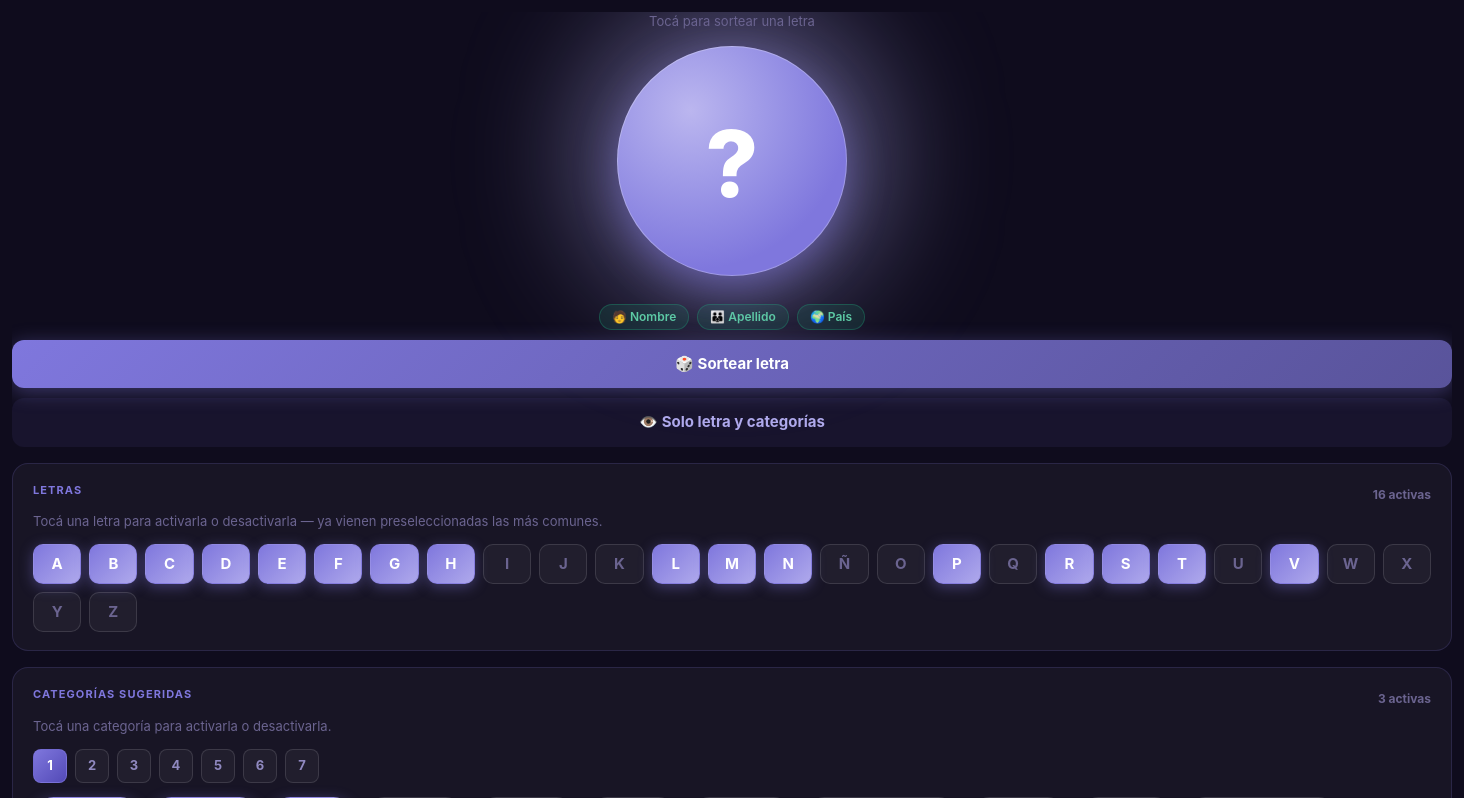
Test: Tutifrutti LocalGame › drawing a letter shows it alongside the active categories
Click the button "🎲 Sortear letra": point(732, 364) [12,340,1452,388]
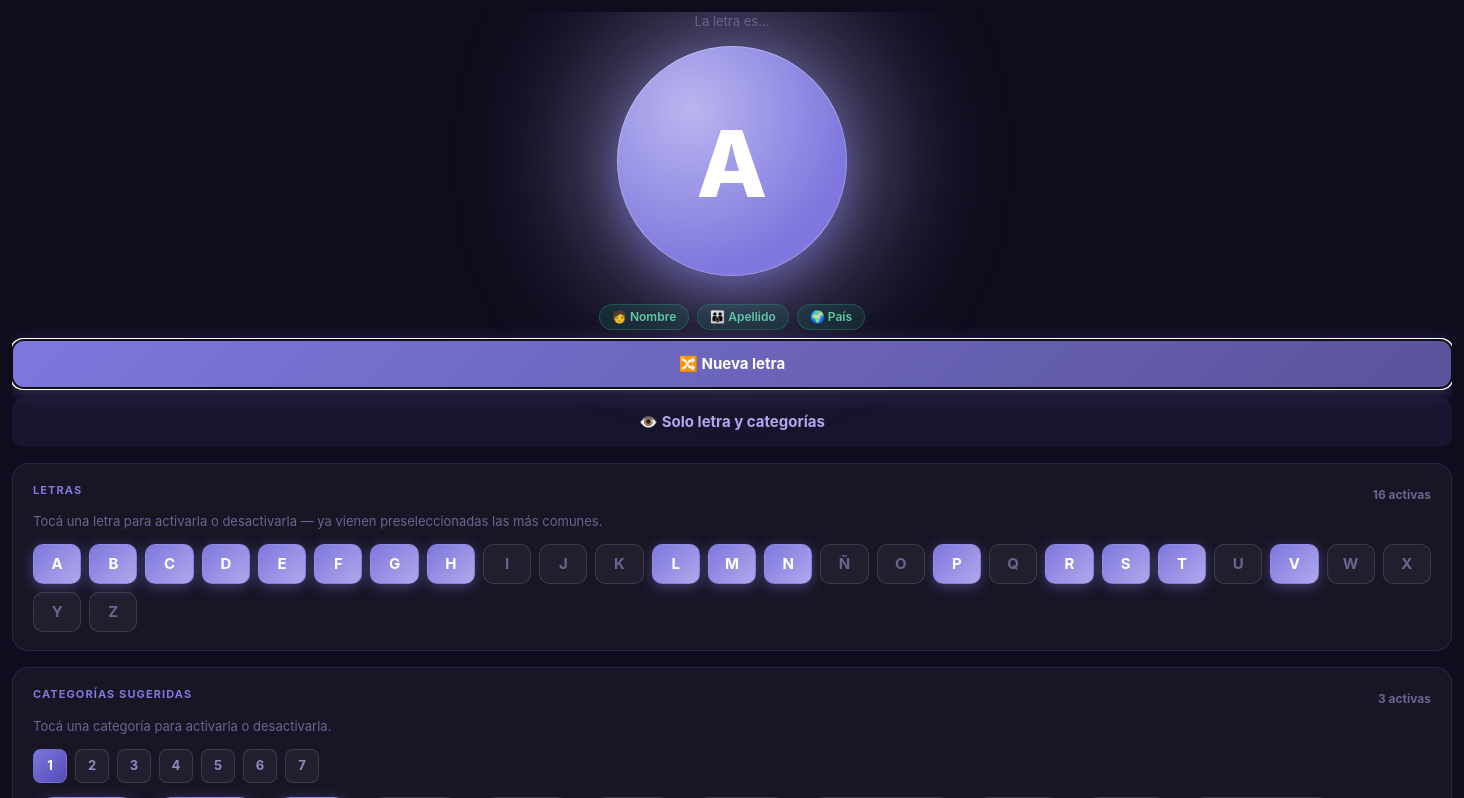
Expected: the text "A" is shown, [617,46,847,276]
Expected: the button "🔀 Nueva letra" is shown, [12,340,1452,388]
